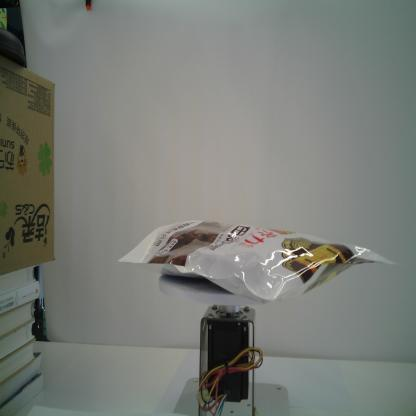Dried Food: (116, 219, 396, 304)
